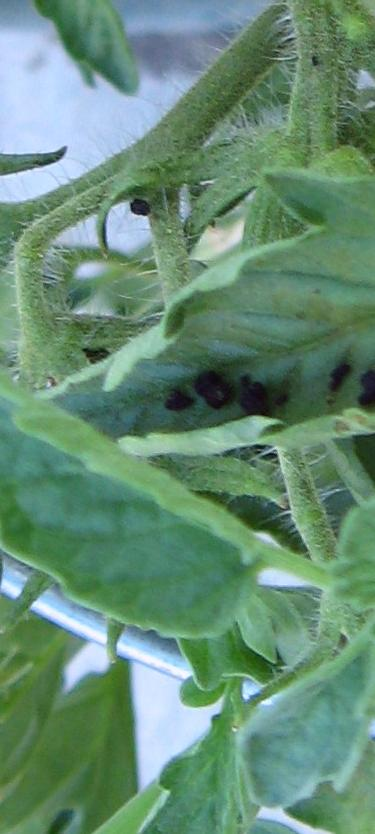Tomato leaf: (0, 294, 287, 627)
